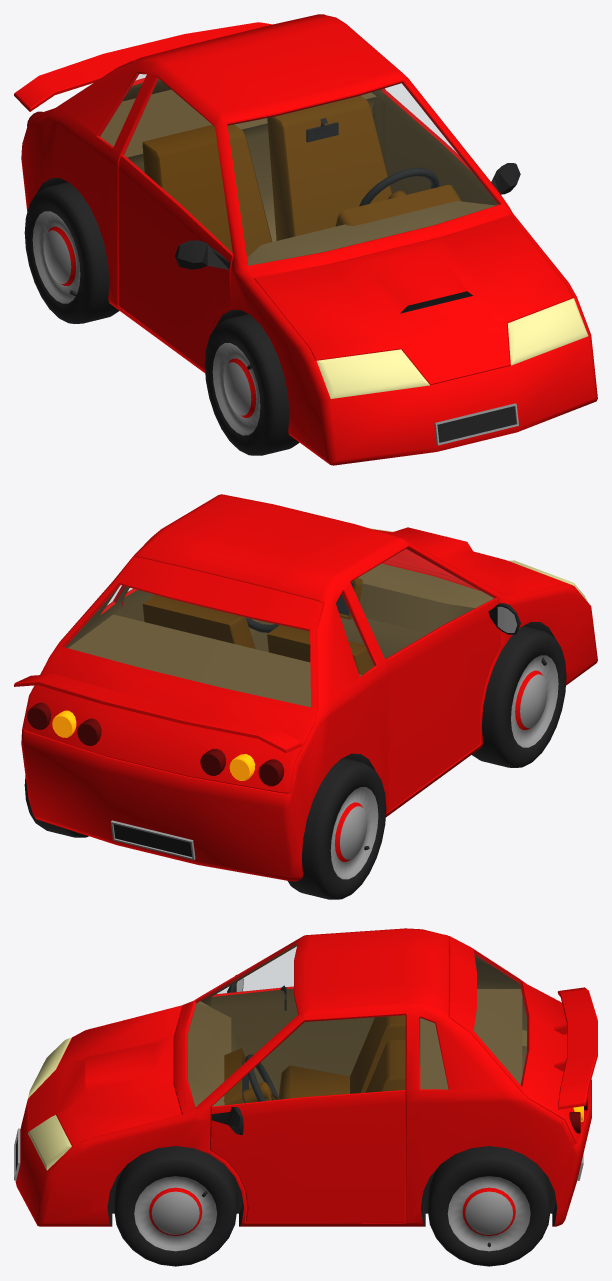
File: Cartoon_SportCar_B01.dae
The picture shows the model from 3 angles, top to bottom: view 1: azimuth 30°, elevation 25°; view 2: azimuth 150°, elevation 25°; view 3: azimuth 270°, elevation 25°; orthographic projection. The views are drawn at different scales.
Visible parts, largest first — view 1: carrosserie, elements, hood, door_front_R, Tire_Back_R, Tire_Front_R, door_front_L, spoiler, Steering_wheel, Trunk; view 2: carrosserie, Trunk, door_front_R, Tire_Back_R, Tire_Front_R, elements, hood, spoiler, door_front_L; view 3: carrosserie, door_front_L, hood, Tire_Back_L, Tire_Front_L, elements, door_front_R, Trunk, spoiler, Steering_wheel.
Part boxes in pixels (bbox=[...]): carrosserie: bbox=[21, 14, 597, 465]; elements: bbox=[142, 95, 588, 445]; hood: bbox=[254, 216, 573, 385]; door_front_R: bbox=[118, 154, 233, 368]; Tire_Back_R: bbox=[24, 182, 119, 323]; Tire_Front_R: bbox=[204, 314, 299, 455]; door_front_L: bbox=[383, 90, 520, 205]; spoiler: bbox=[14, 22, 272, 111]; Steering_wheel: bbox=[359, 168, 439, 206]; Trunk: bbox=[22, 24, 271, 143]; carrosserie: bbox=[21, 494, 597, 881]; Trunk: bbox=[22, 557, 323, 793]; door_front_R: bbox=[385, 597, 520, 811]; Tire_Back_R: bbox=[287, 758, 386, 899]; Tire_Front_R: bbox=[472, 626, 566, 767]; elements: bbox=[110, 528, 587, 859]; hood: bbox=[373, 527, 572, 595]; spoiler: bbox=[14, 674, 301, 752]; door_front_L: bbox=[121, 588, 154, 621]; carrosserie: bbox=[15, 928, 591, 1226]; door_front_L: bbox=[210, 1090, 405, 1222]; hood: bbox=[28, 1006, 181, 1146]; Tire_Back_L: bbox=[427, 1146, 550, 1266]; Tire_Front_L: bbox=[114, 1146, 237, 1266]; elements: bbox=[14, 985, 583, 1180]; door_front_R: bbox=[210, 975, 374, 1100]; Trunk: bbox=[448, 936, 590, 1143]; spoiler: bbox=[554, 987, 597, 1109]; Steering_wheel: bbox=[243, 1054, 279, 1102].
Bounding box in the file's own units: 190 × 146 × 322.
